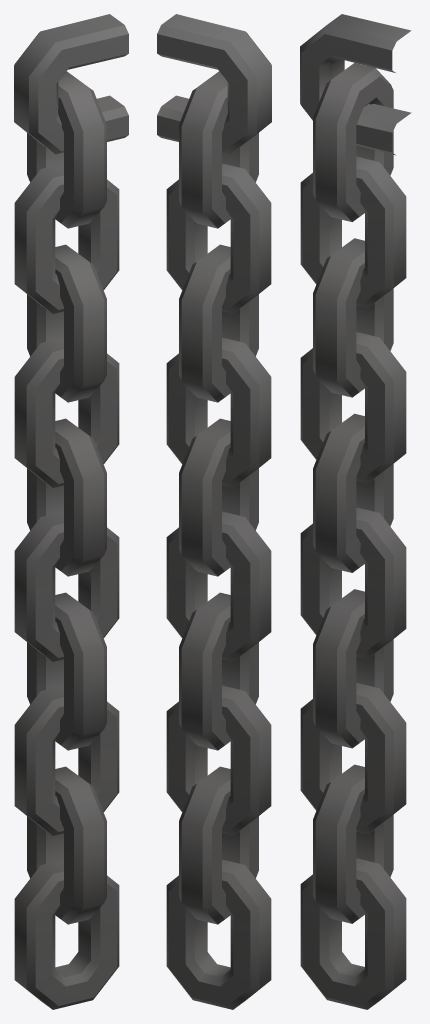
The model's file is Chain_1_1.glb.
3 renders of one model, left to right at view 1: azimuth 30°, elevation 25°; view 2: azimuth 150°, elevation 25°; view 3: azimuth 330°, elevation 25°, orthographic.
Parts seen in each view (by area): view 1: Chain_1_1; view 2: Chain_1_1; view 3: Chain_1_1.
Boxes of the visible parts, x1=… form: Chain_1_1: x1=14, y1=14, x2=128, y2=1009; Chain_1_1: x1=157, y1=14, x2=271, y2=1009; Chain_1_1: x1=300, y1=14, x2=411, y2=1009.
Size of the model in its own units: 0.1171 by 1.12 by 0.1122.
1 material, 1 textured.
